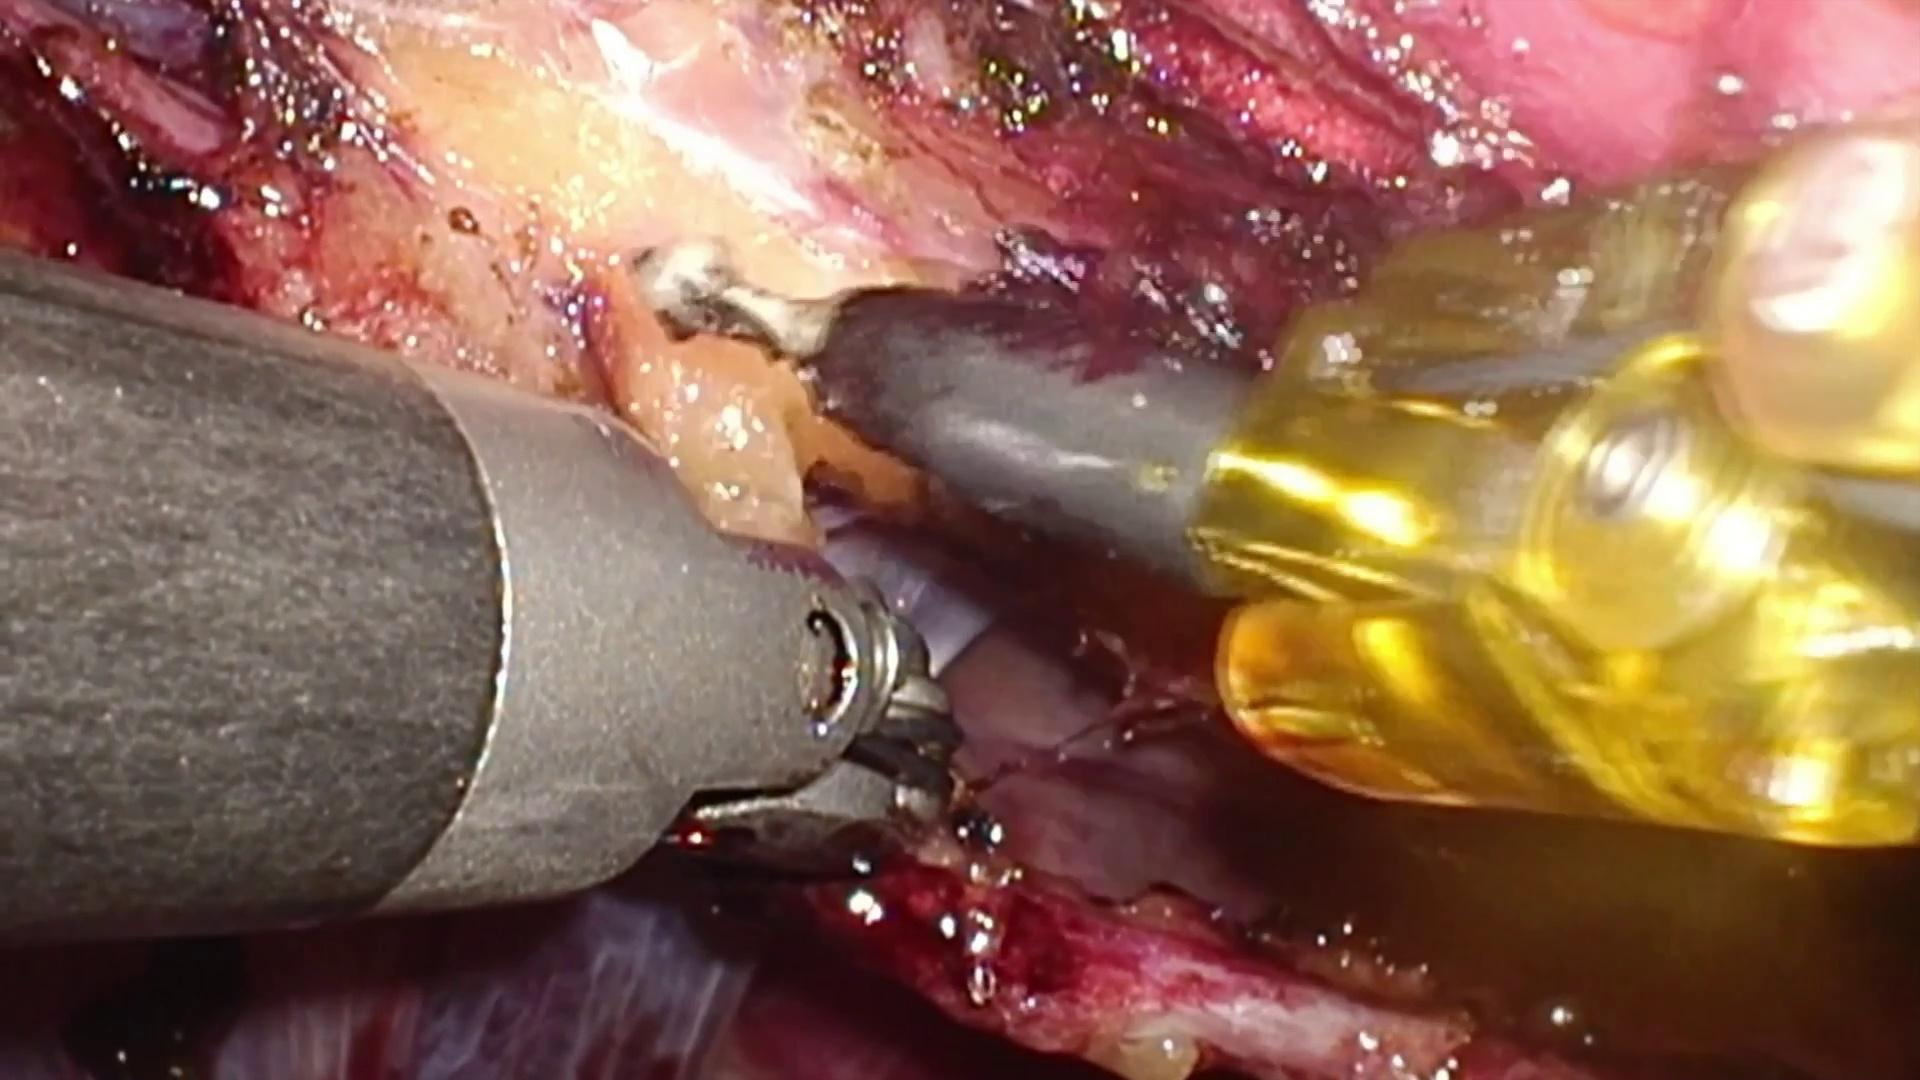Cautery_Spatula: (654, 240, 1250, 603)
